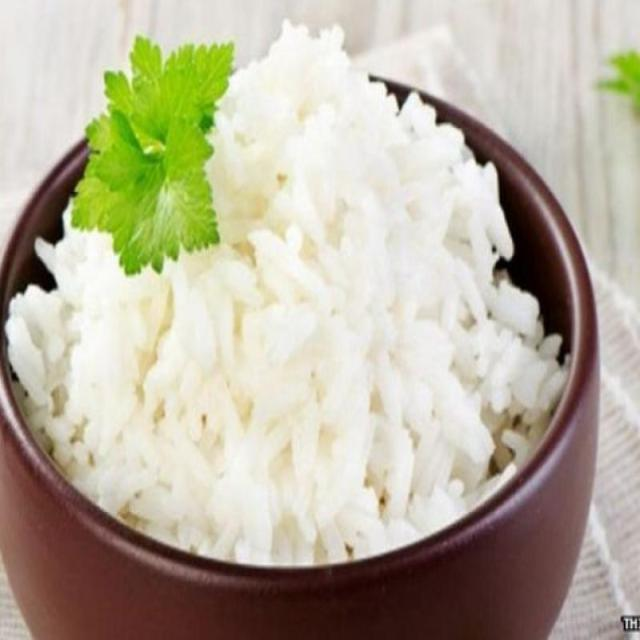nasi_putih: (6, 21, 566, 567)
